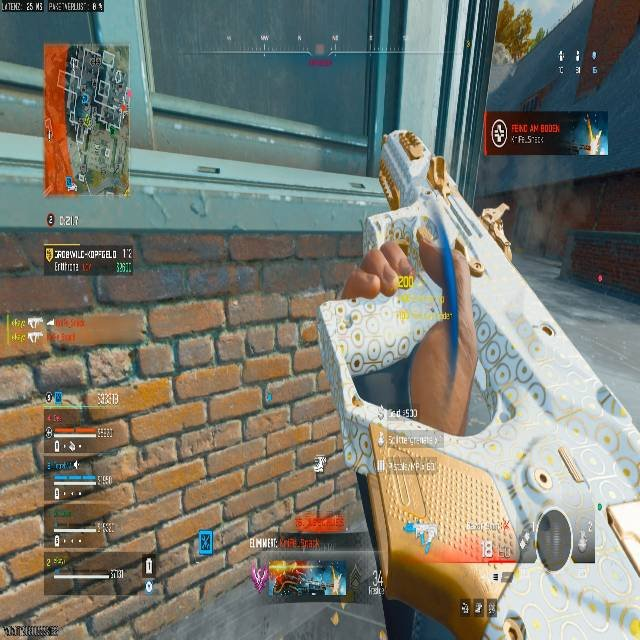player: (479, 511, 638, 638)
